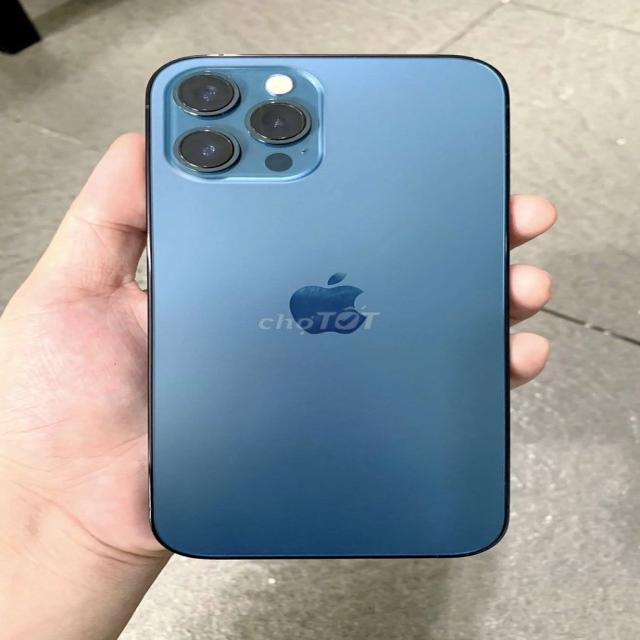gen_12_13: (143, 53, 519, 562)
